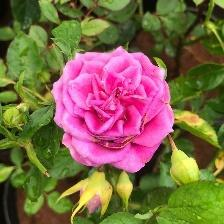rose: (52, 47, 178, 176)
